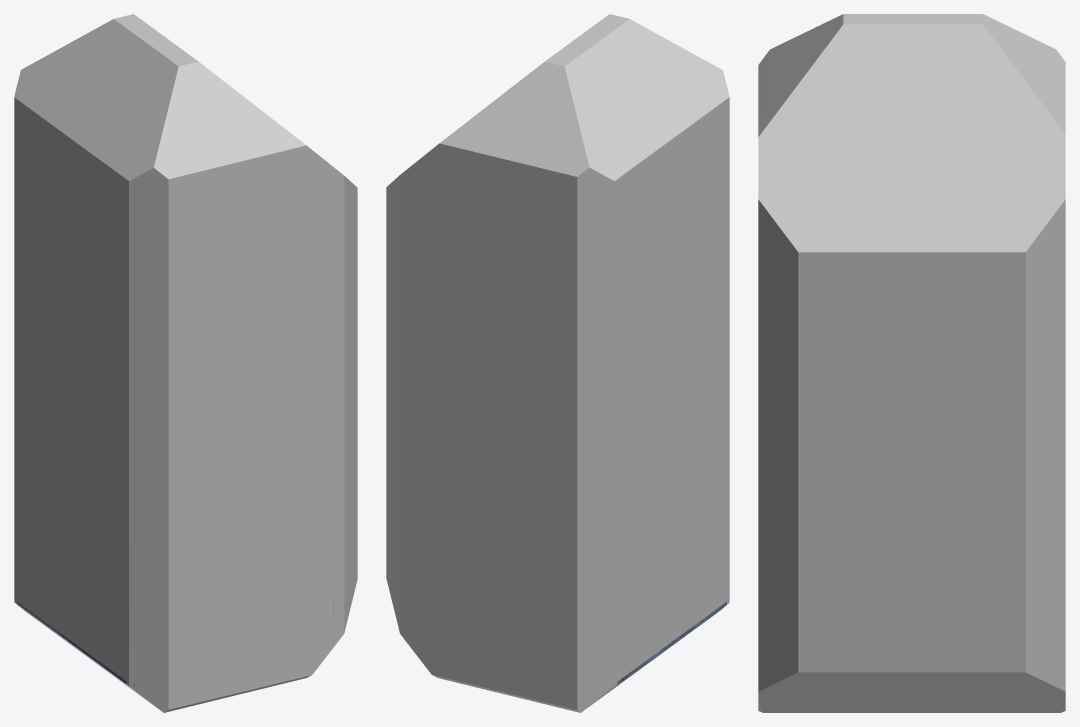
Rendered from SM_gas_cylinder_03.fbx.
The picture shows the model from 3 angles, left to right: view 1: azimuth 30°, elevation 25°; view 2: azimuth 150°, elevation 25°; view 3: azimuth 270°, elevation 25°; orthographic projection. The views are drawn at different scales.
Parts seen in each view (by area): view 1: SM_gas_cylinder_03_ConvexHulls; view 2: SM_gas_cylinder_03_ConvexHulls; view 3: SM_gas_cylinder_03_ConvexHulls.
Part boxes in pixels (bbox=[...]): SM_gas_cylinder_03_ConvexHulls: bbox=[14, 14, 357, 712]; SM_gas_cylinder_03_ConvexHulls: bbox=[386, 14, 729, 712]; SM_gas_cylinder_03_ConvexHulls: bbox=[758, 14, 1065, 712].
Size of the model in its own units: 61.56 by 65.49 by 153.
2 materials, 1 textured.
